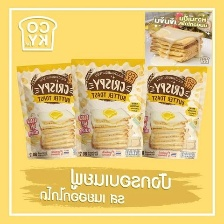snack: (67, 52, 150, 161), (12, 57, 91, 164), (134, 61, 211, 162)
